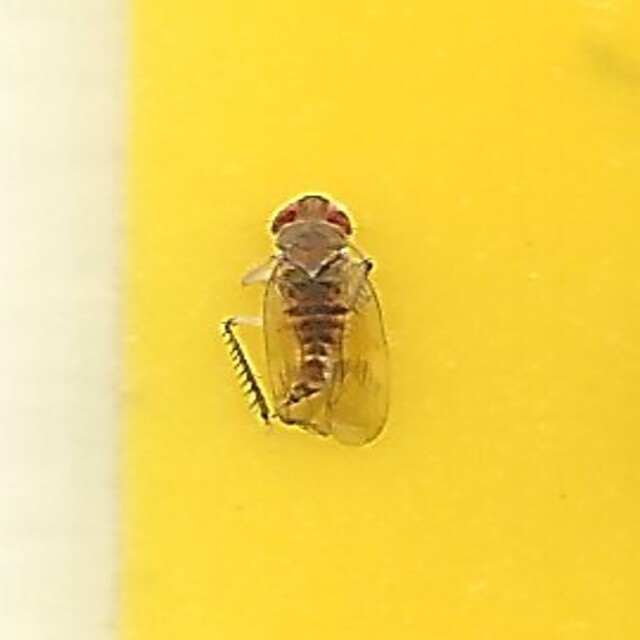Hemiptera: (237, 188, 403, 452)
